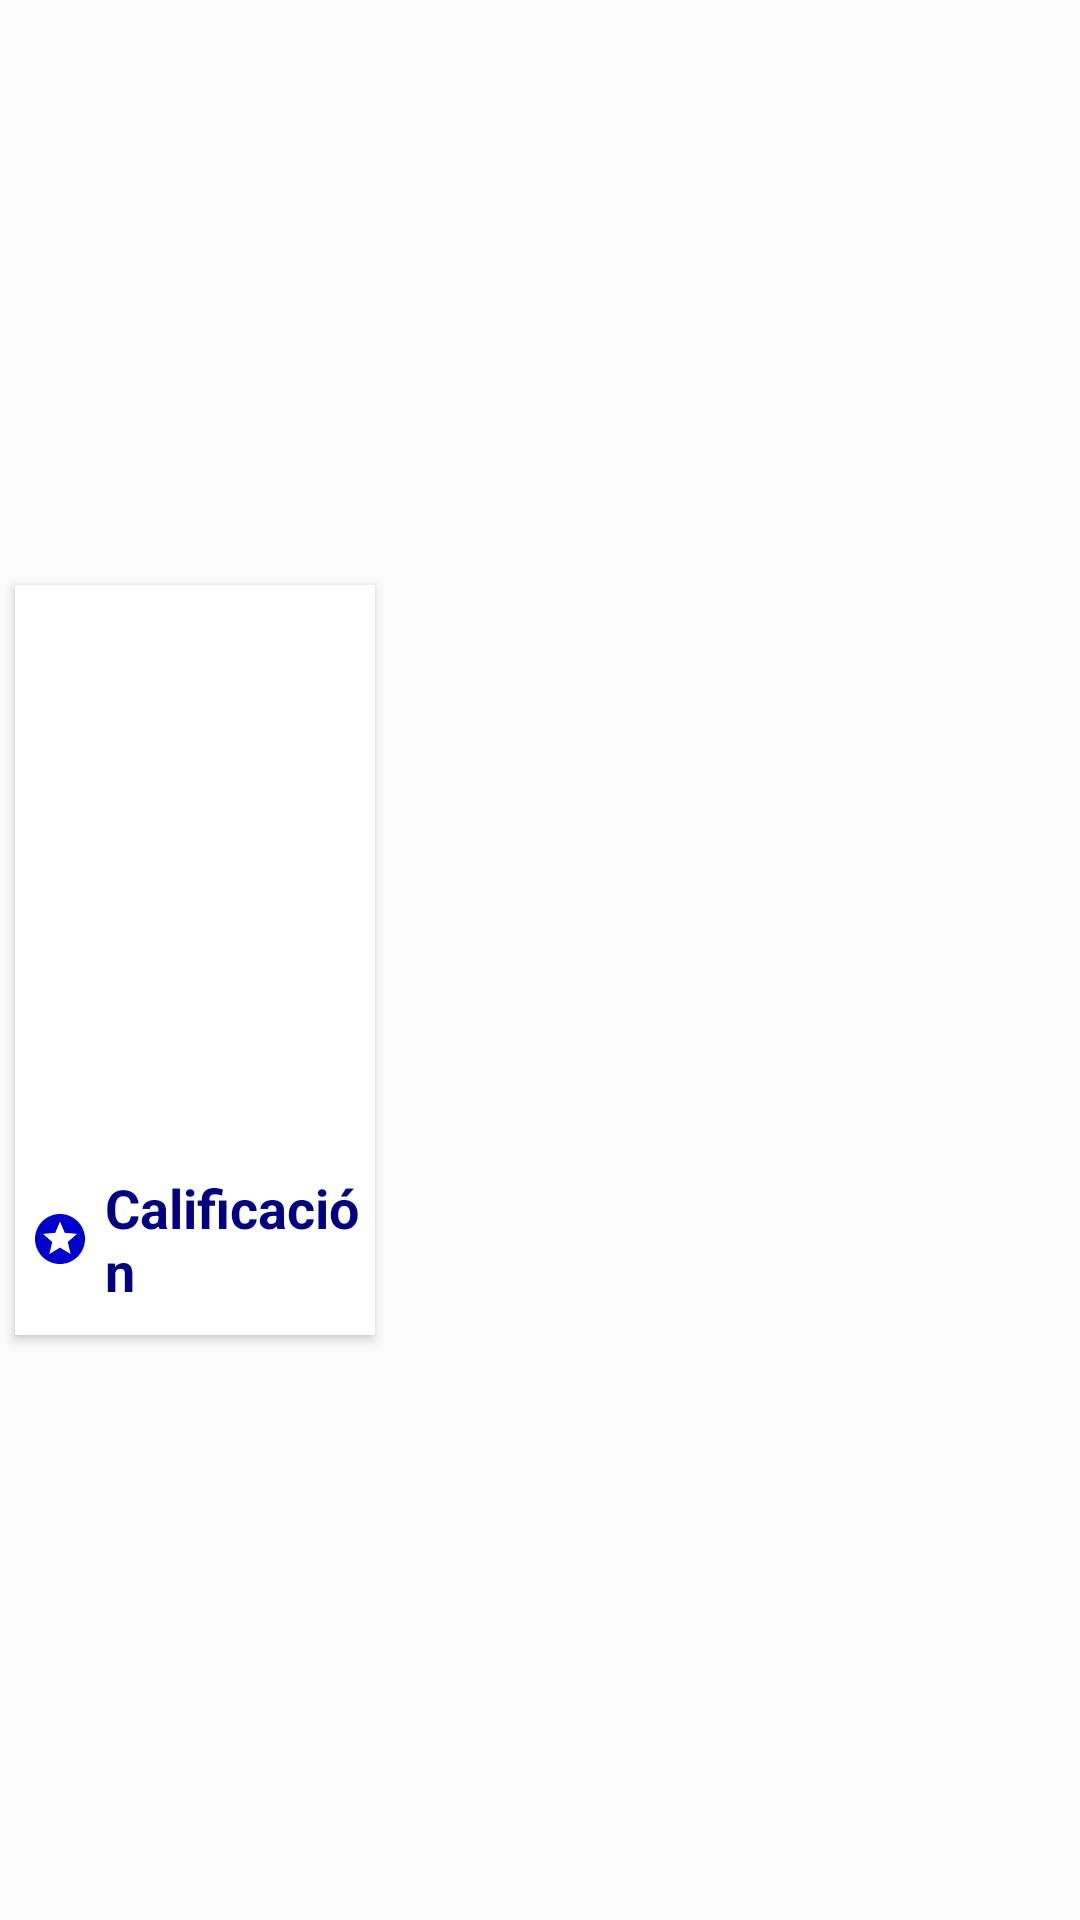

Named icons in this screenshot (1080x1920) and their centers, [x,y]:
stars: [60,1239]
